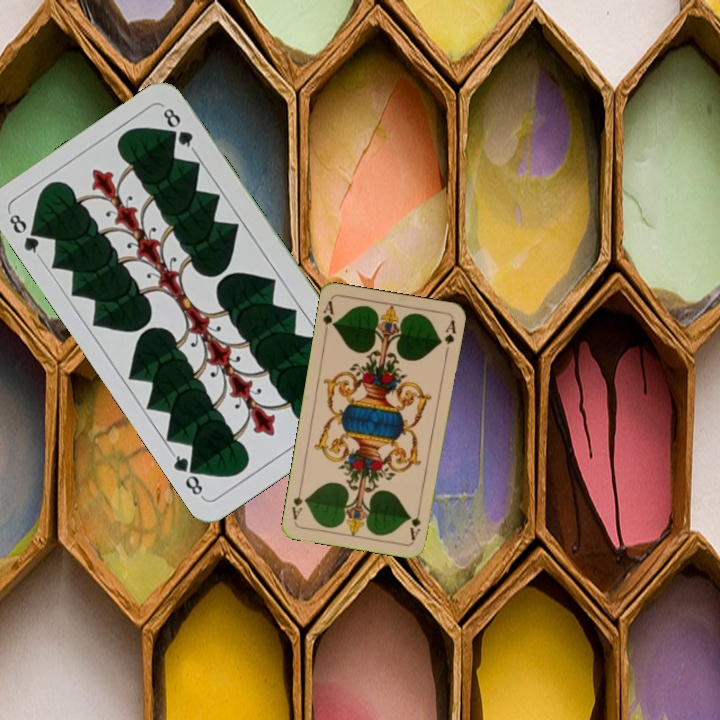G8: (4, 208, 46, 261)
GA: (318, 296, 338, 337), (406, 503, 423, 543)
